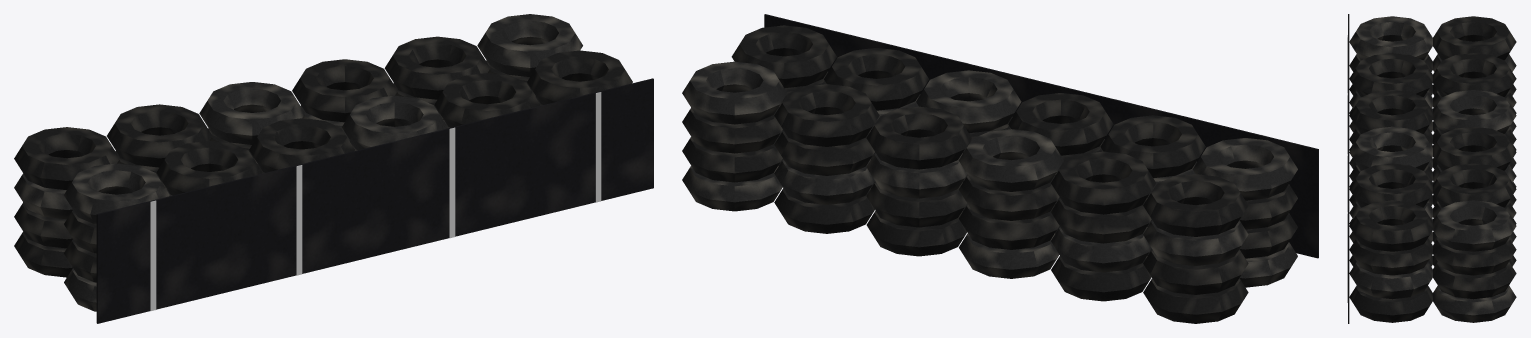
Rendered from tires_4m.glb.
3 views of the same model, side by side, from view 1: azimuth 30°, elevation 25°; view 2: azimuth 150°, elevation 25°; view 3: azimuth 270°, elevation 25° (orthographic). The views are drawn at different scales.
Parts seen in each view (by area): view 1: tires_4m; view 2: tires_4m; view 3: tires_4m.
Part boxes in pixels (x1=…): tires_4m: x1=14, y1=14, x2=653, y2=323; tires_4m: x1=682, y1=14, x2=1318, y2=323; tires_4m: x1=1347, y1=14, x2=1516, y2=323.
Bounding box in the file's own units: 4 × 0.7732 × 1.29.
4 materials, 3 textured.
